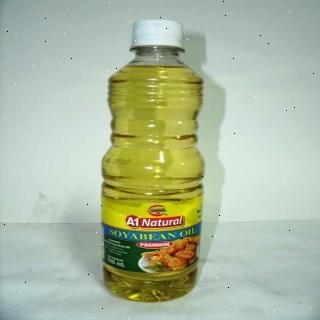Plastic-bottle: (98, 18, 213, 304)
